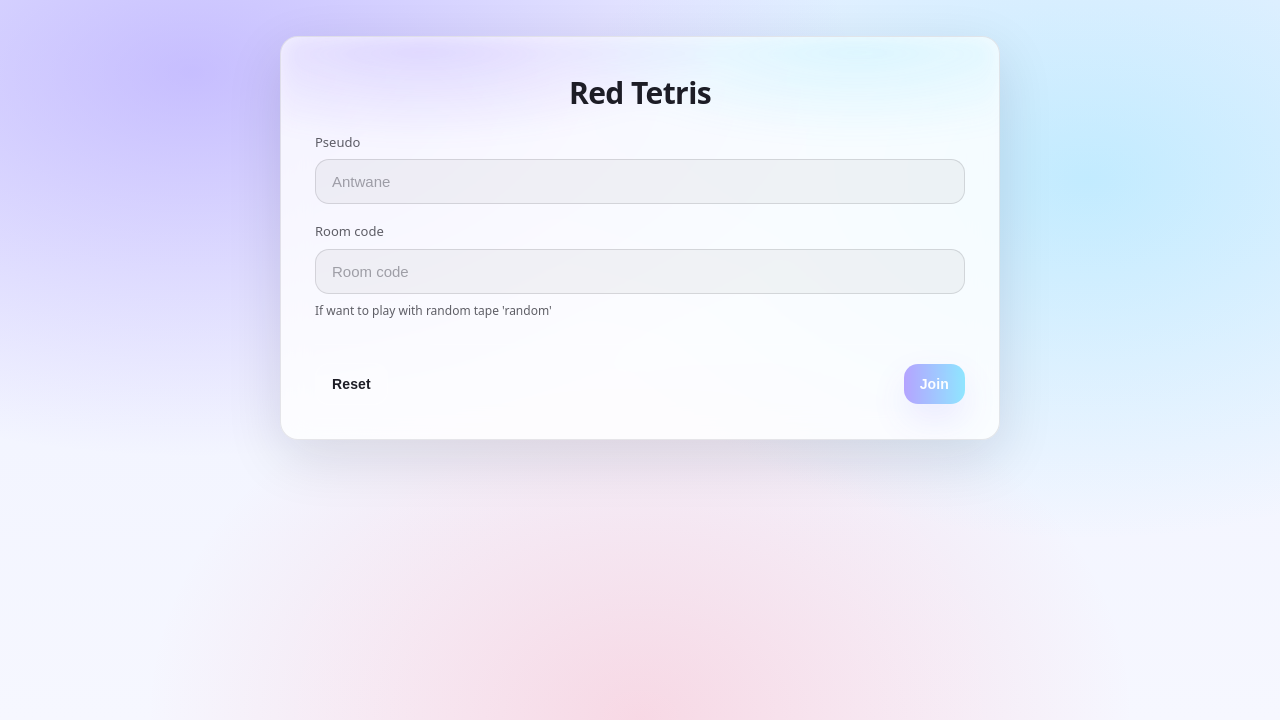
Test: Home › resets both fields when reset button is clicked
The image size is (1280, 720).
Type "Antoine" into the field with placeholder "Antwane".
click(640, 182); type("Antoine")  # box [330, 172, 950, 191]
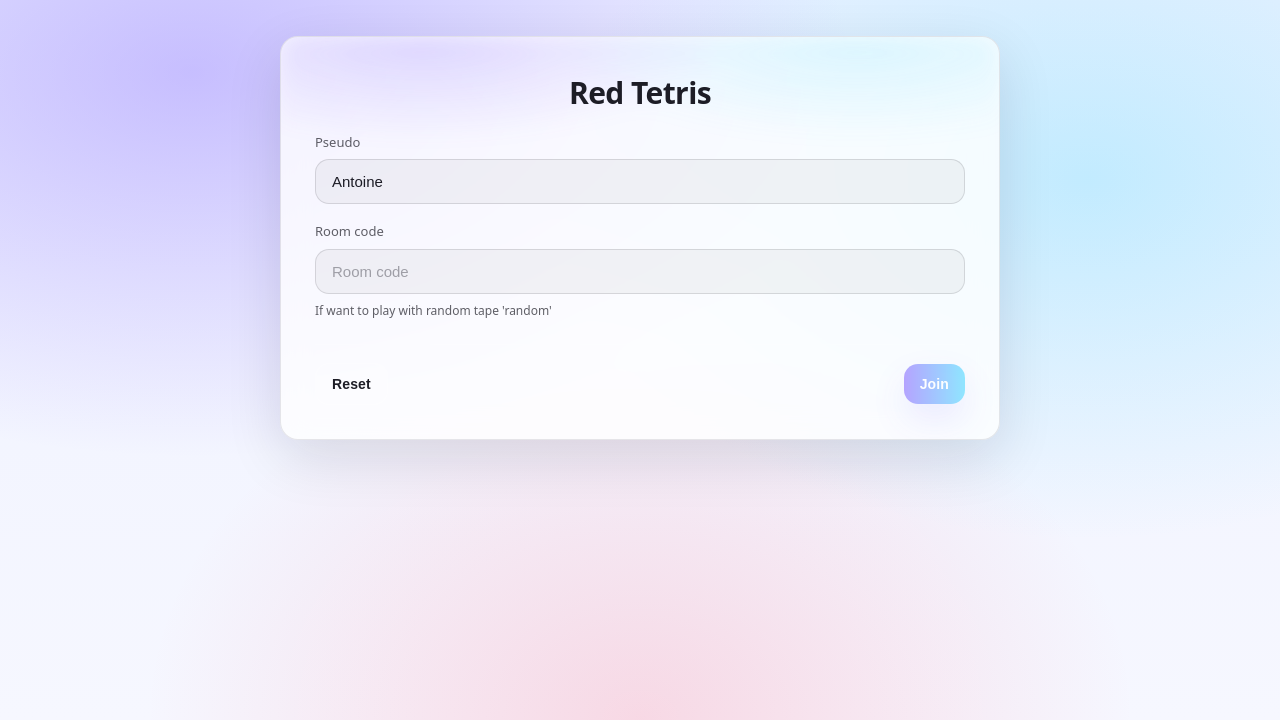
Type "Room42" into the field with placeholder "Room code".
click(640, 272); type("Room42")  # box [330, 262, 950, 281]
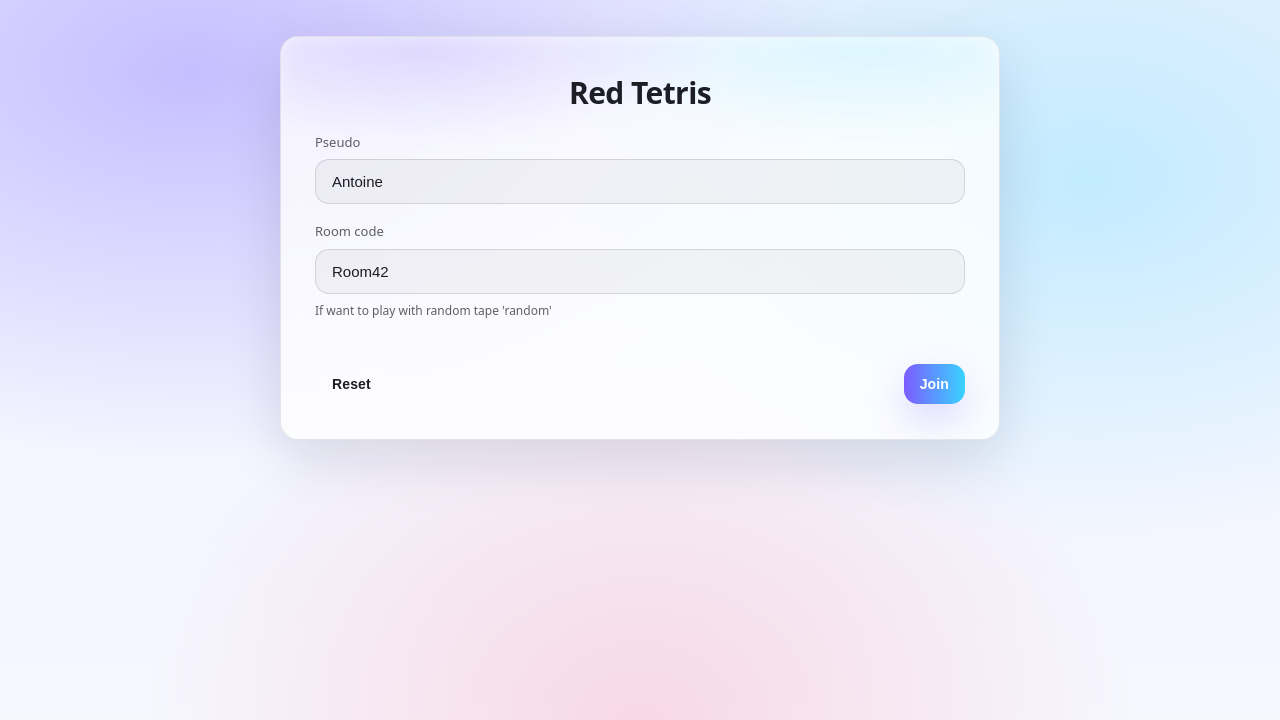
Click the button "Reset".
click(351, 384)  # box [315, 363, 388, 405]
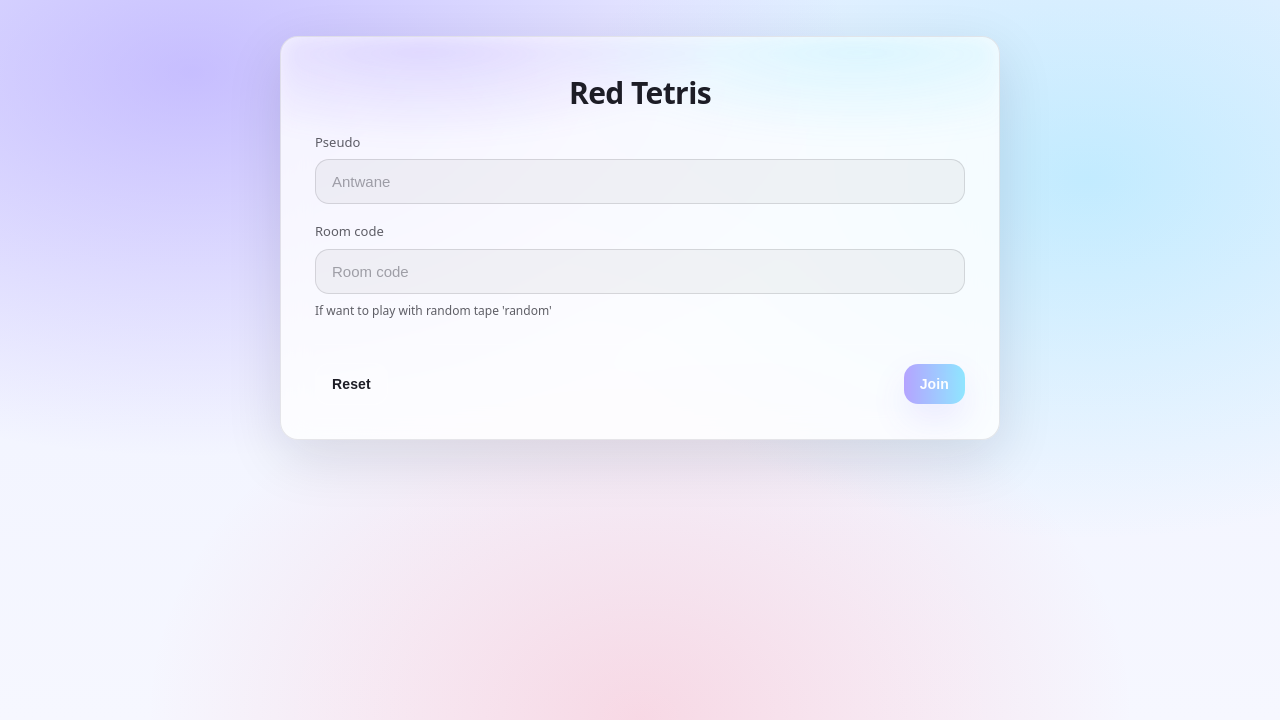
Expected: the field with placeholder "Antwane" is empty, [330, 172, 950, 191]
Expected: the field with placeholder "Room code" is empty, [330, 262, 950, 281]
